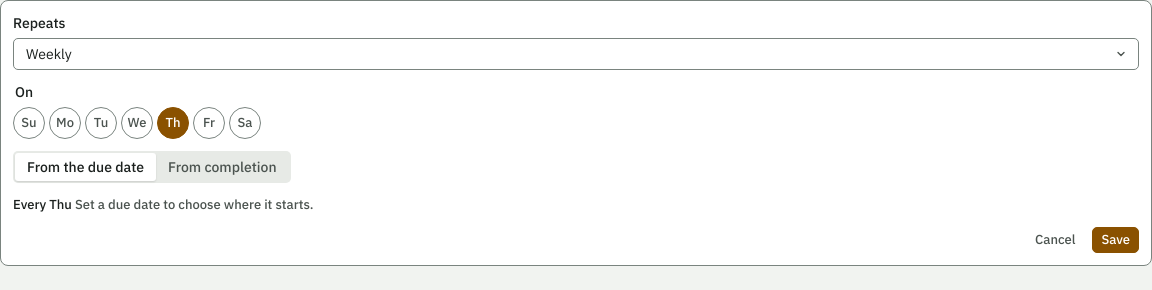
Scenario: recurrence editor › refuses an empty week and an out-of-range interval
Later steps or results of the test are not shown.
Click the button with aria-label "Thursday" at (173, 123), box [157,107,189,139]
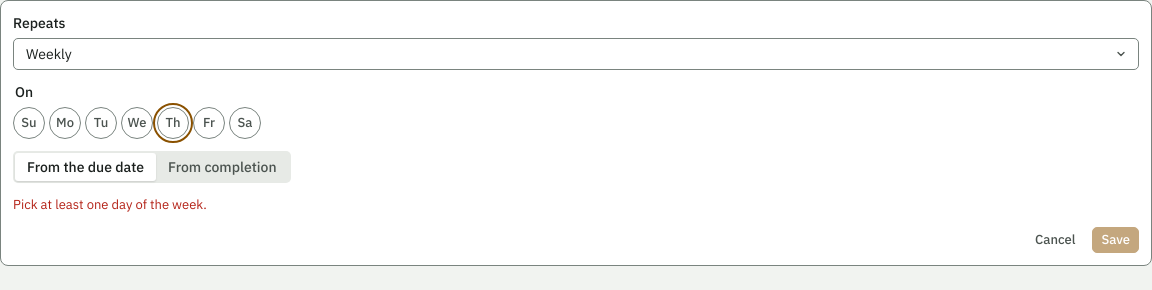
Now the message reads "Pick at least one day of the week.", box [13,196,207,213]
Now the button "Save" is disabled, box [1092,226,1139,252]
Select "Every few days, weeks…" in the dropdown labelled "Repeats" at (576, 54), box [13,38,1139,70]
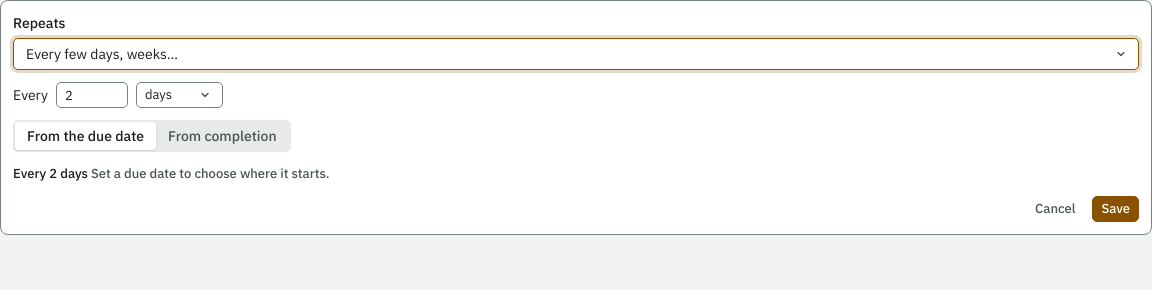
Replace the text in the number field named "Interval" with "1000" at (92, 95), box [56,82,128,108]
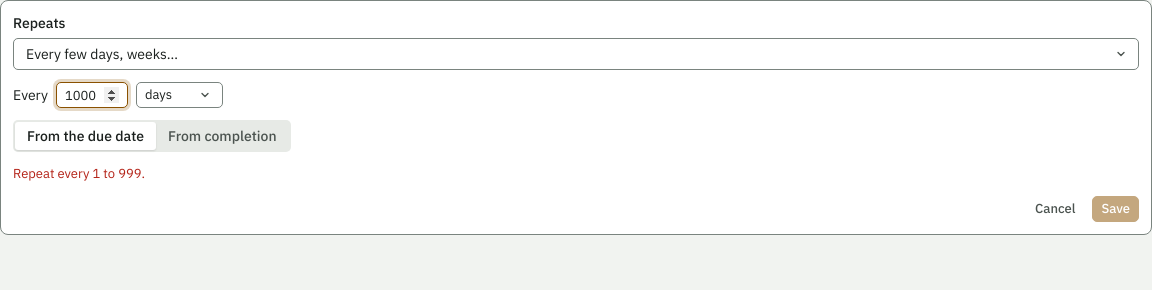
Now the message reads "Repeat every 1 to 999.", box [13,165,145,182]
Replace the text in the number field named "Interval" with "3" at (92, 95), box [56,82,128,108]
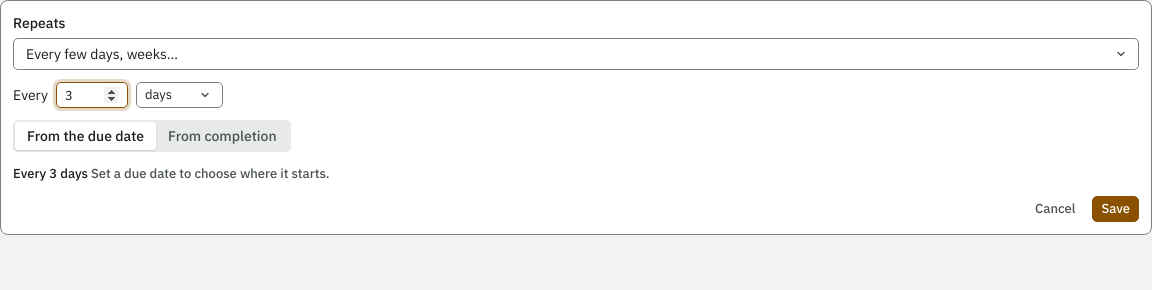
Select "months" in the dropdown named "Unit" at (179, 95), box [136,82,223,108]
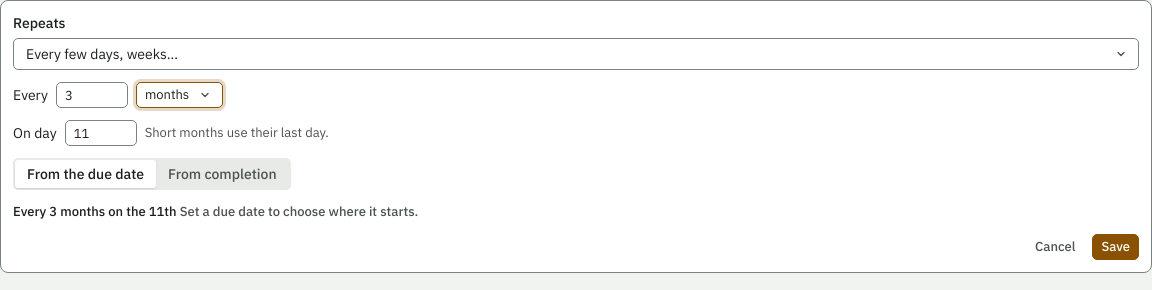
Now the element with test id "recur-summary" reads "Every 3 months on the 11th Set a due date to choose where it starts.", box [13,203,177,220]
